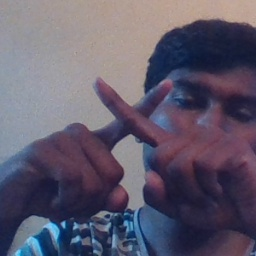X: (49, 69, 211, 202)
